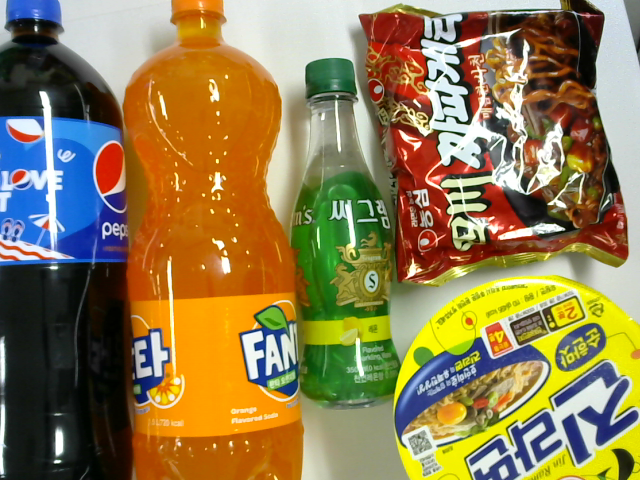Hwanta_Orange_1.5L: (119, 6, 308, 480)
Jinlamyeon_Mild_Taste_Large_Cup: (385, 271, 640, 475)
Pepsi_Cola_1.5L: (3, 4, 138, 480)
Seagram_Lemon_Carbonated_Water: (291, 54, 409, 396)
Sichuan_Chapaghetti: (361, 21, 638, 276)
